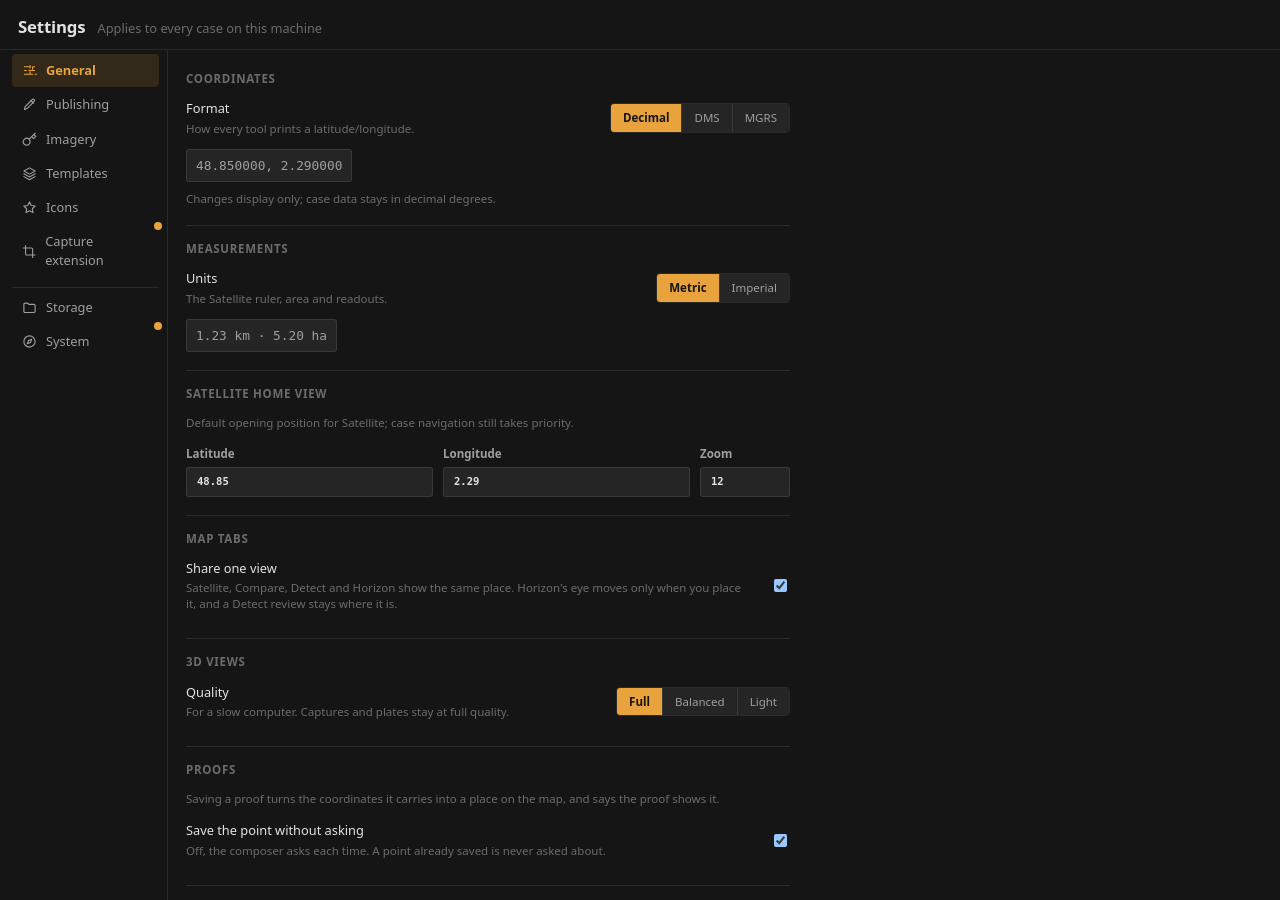
it: post templates › leaves the original alone when the copy is edited and dropped
Click the button with class "rail-tab" showing "Templates".
click(86, 173)  # box x1=12 y1=157 x2=159 y2=190
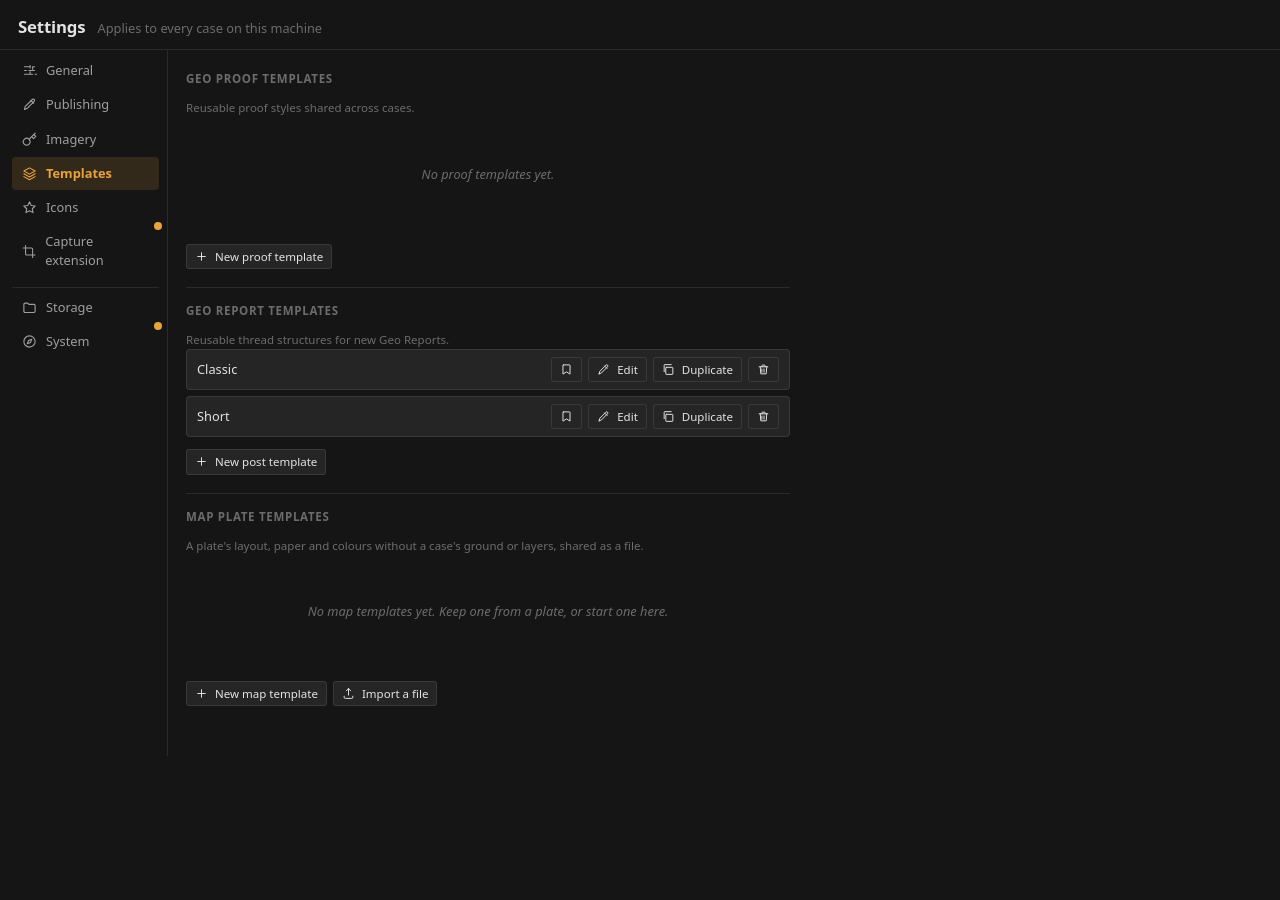
Click the button "Duplicate" in the row of "Classic".
click(697, 369)  # box x1=653 y1=357 x2=742 y2=382
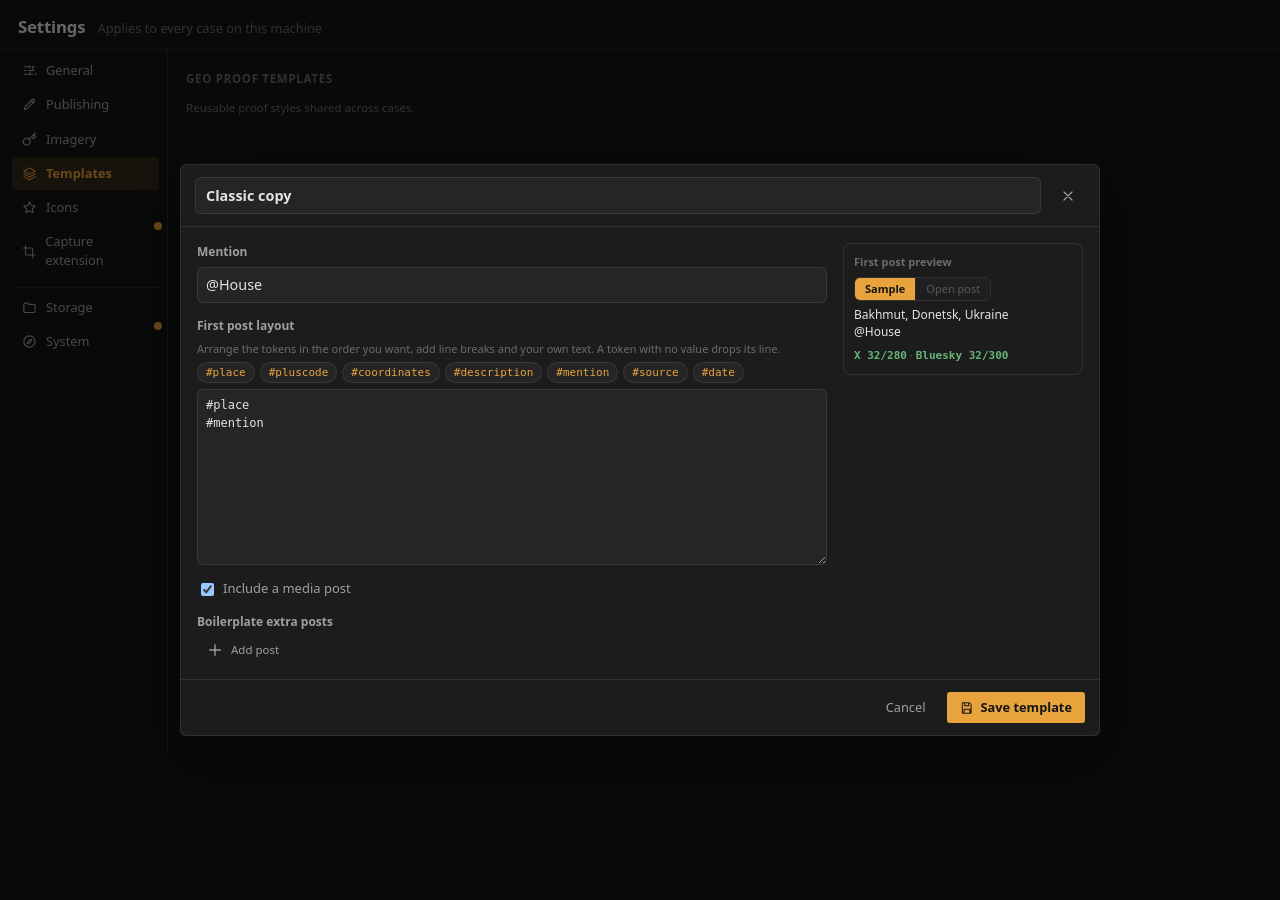
Replace the text in the text box with class "body" with "changed" at (512, 477), box x1=197 y1=389 x2=827 y2=565
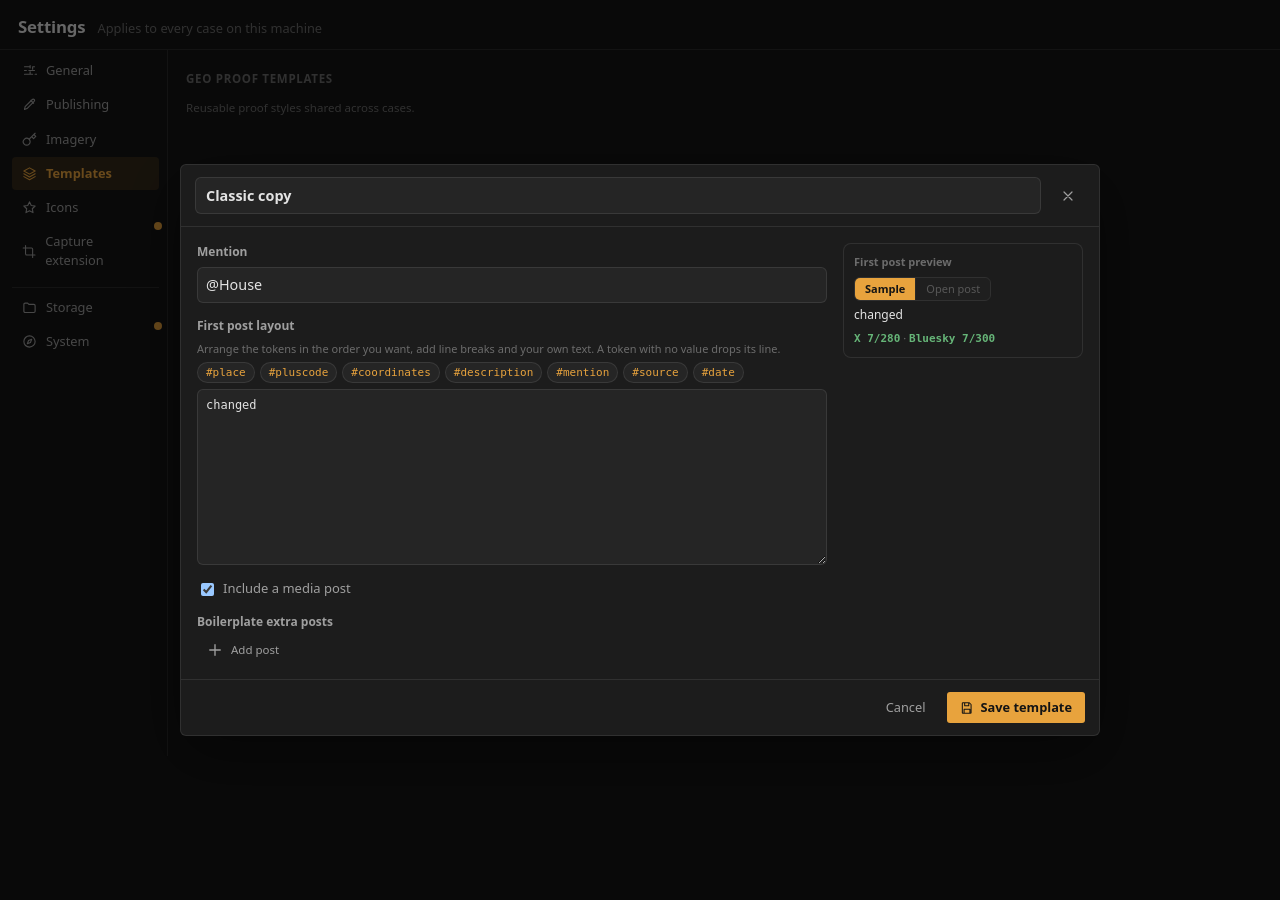
Click the button with class "btn-ghost" showing "Cancel".
click(906, 708)  # box x1=873 y1=692 x2=938 y2=723
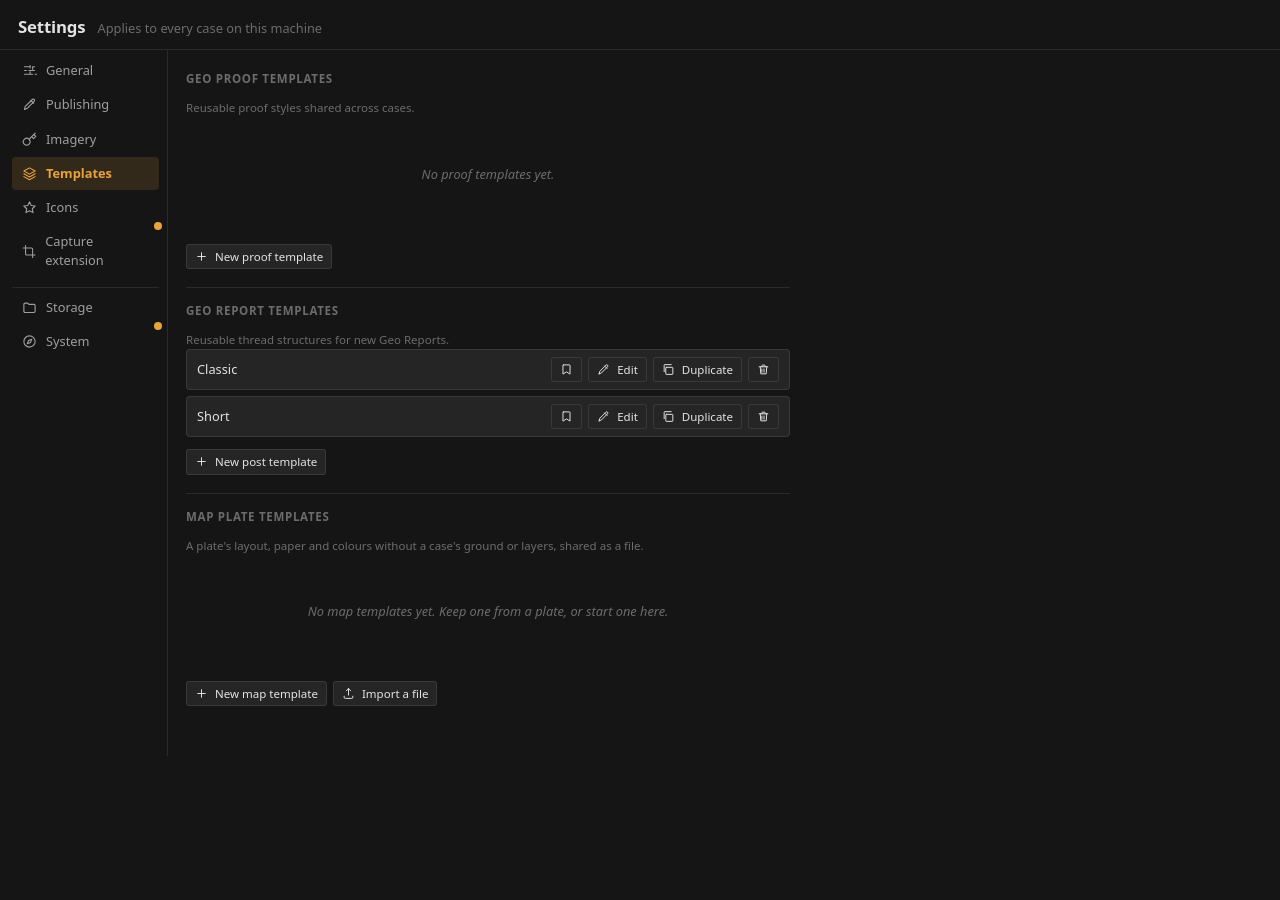
Expected: the element with class "tpl-modal" is gone
